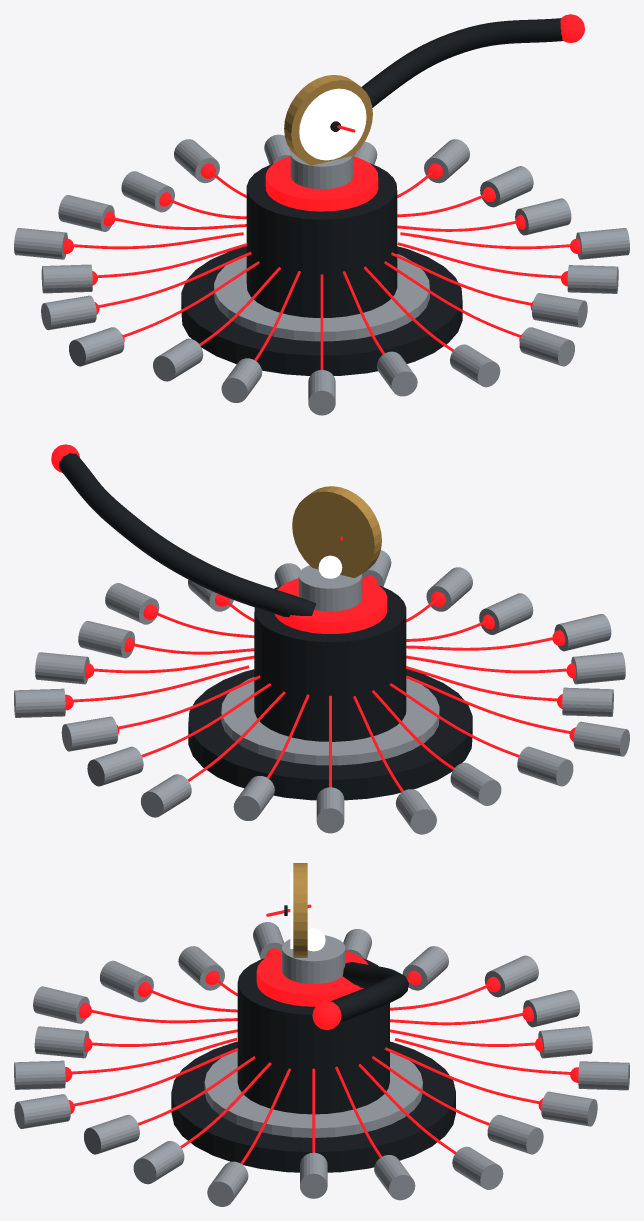
The model's file is distranet-procurement-accumulator.glb.
The picture shows the model from 3 angles, top to bottom: view 1: azimuth 30°, elevation 25°; view 2: azimuth 150°, elevation 25°; view 3: azimuth 270°, elevation 25°; orthographic projection.
Visible parts, largest first — view 1: Pressure accumulator, Accumulator base, Accumulator steel band, Collective output pipe, Gauge face, Pressure signal chamber, Gauge body, Top regulator, member_piston_19, member_piston_11, member_piston_12, member_piston_18 (+21 smaller); view 2: Pressure accumulator, Accumulator base, Accumulator steel band, Collective output pipe, Gauge body, Pressure signal chamber, Top regulator, member_piston_12, member_piston_04, member_piston_11, member_piston_05, member_piston_14 (+19 smaller); view 3: Pressure accumulator, Accumulator base, Accumulator steel band, Pressure signal chamber, Collective output pipe, Top regulator, member_piston_18, member_piston_05, member_piston_04, member_piston_19, member_piston_06, member_piston_16 (+24 smaller).
Part boxes in pixels (x1,y1,x2,y2): Pressure accumulator: (246, 163, 397, 317); Accumulator base: (181, 246, 462, 375); Accumulator steel band: (214, 254, 429, 341); Collective output pipe: (361, 18, 563, 107); Gauge face: (299, 88, 366, 160); Pressure signal chamber: (265, 156, 378, 211); Gauge body: (284, 75, 372, 165); Top regulator: (290, 151, 353, 189); member_piston_19: (532, 293, 587, 327); member_piston_11: (41, 295, 96, 330); member_piston_12: (69, 327, 124, 366); member_piston_18: (519, 327, 574, 366); Pressure accumulator: (254, 585, 406, 741); Accumulator base: (188, 669, 472, 800); Accumulator steel band: (221, 677, 439, 765); Collective output pipe: (59, 453, 316, 617); Gauge body: (292, 486, 381, 577); Pressure signal chamber: (274, 578, 387, 633); Top regulator: (298, 565, 362, 611); member_piston_12: (573, 721, 629, 756); member_piston_04: (61, 716, 118, 751); member_piston_11: (517, 746, 573, 786); member_piston_05: (87, 746, 143, 786); member_piston_14: (571, 652, 625, 684); Pressure accumulator: (237, 958, 389, 1114); Accumulator base: (171, 1041, 455, 1172); Accumulator steel band: (204, 1051, 422, 1137); Pressure signal chamber: (256, 951, 368, 1006); Collective output pipe: (330, 962, 408, 1023); Top regulator: (282, 935, 345, 983); member_piston_18: (14, 1094, 70, 1128); member_piston_05: (541, 1091, 597, 1126); member_piston_04: (487, 1114, 543, 1154); member_piston_19: (84, 1115, 139, 1154); member_piston_06: (578, 1061, 629, 1090); member_piston_16: (34, 1026, 89, 1058).
Size of the model in its own units: 9.47 by 4.1 by 9.31.
